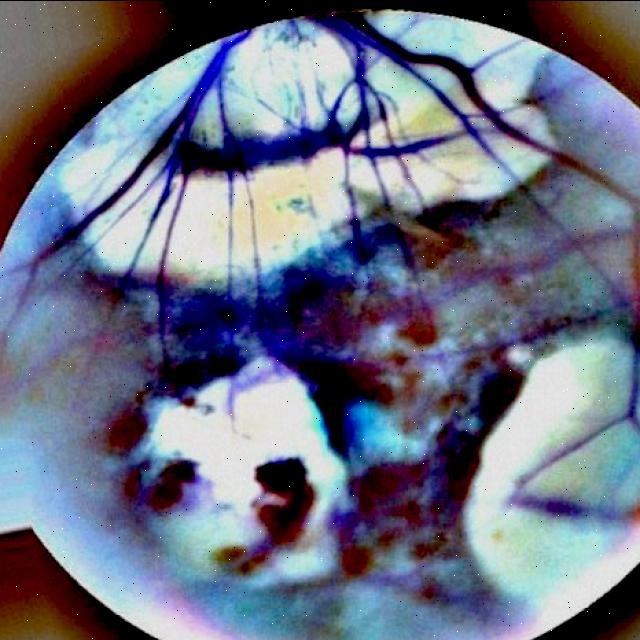Macula: (210, 460, 306, 578)
Nerves: (345, 9, 640, 338), (2, 33, 246, 333), (363, 121, 470, 363)
Optic Disk: (225, 18, 360, 131)
